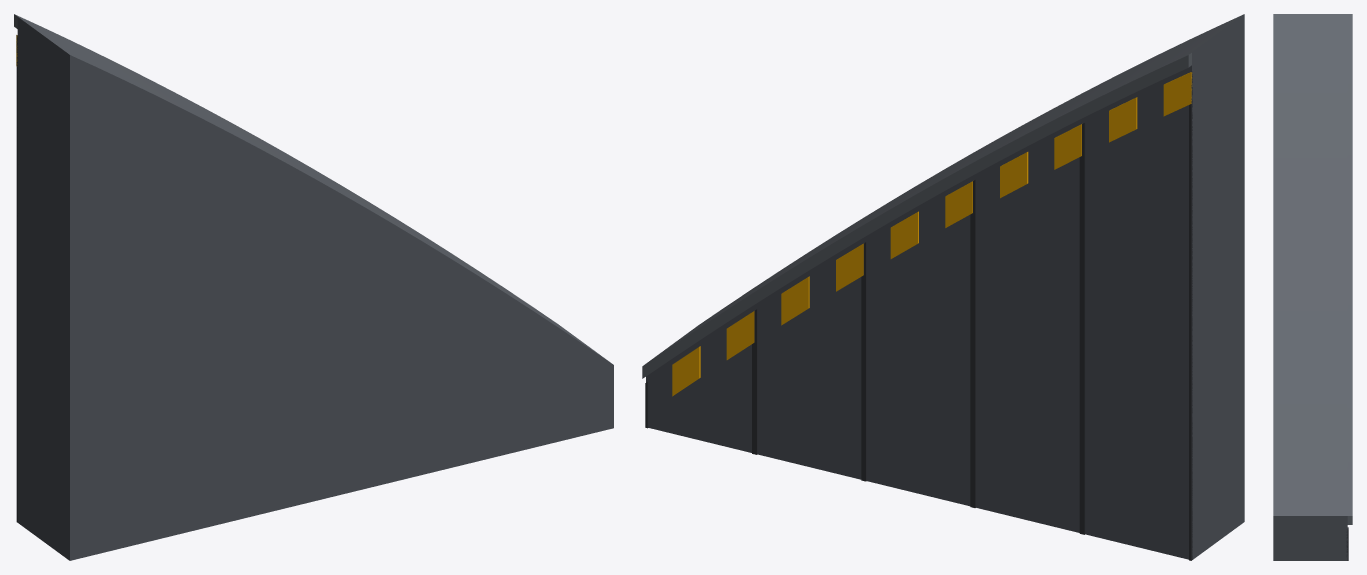
The picture shows the model from 3 angles, left to right: view 1: azimuth 30°, elevation 25°; view 2: azimuth 150°, elevation 25°; view 3: azimuth 270°, elevation 25°; orthographic projection. The views are drawn at different scales.
Visible parts, largest first — view 1: e34wf; view 2: e34wf; view 3: e34wf.
Boxes of the visible parts, bbox=[...] form: e34wf: bbox=[14, 14, 613, 560]; e34wf: bbox=[642, 14, 1244, 560]; e34wf: bbox=[1273, 14, 1352, 560].
Bounding box in the file's own units: 9 × 8 × 1.6.
